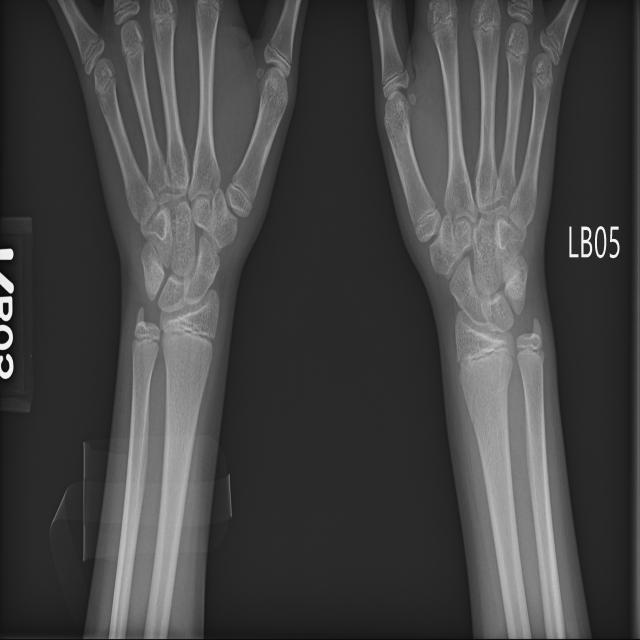fracture: (527, 2, 582, 129)
